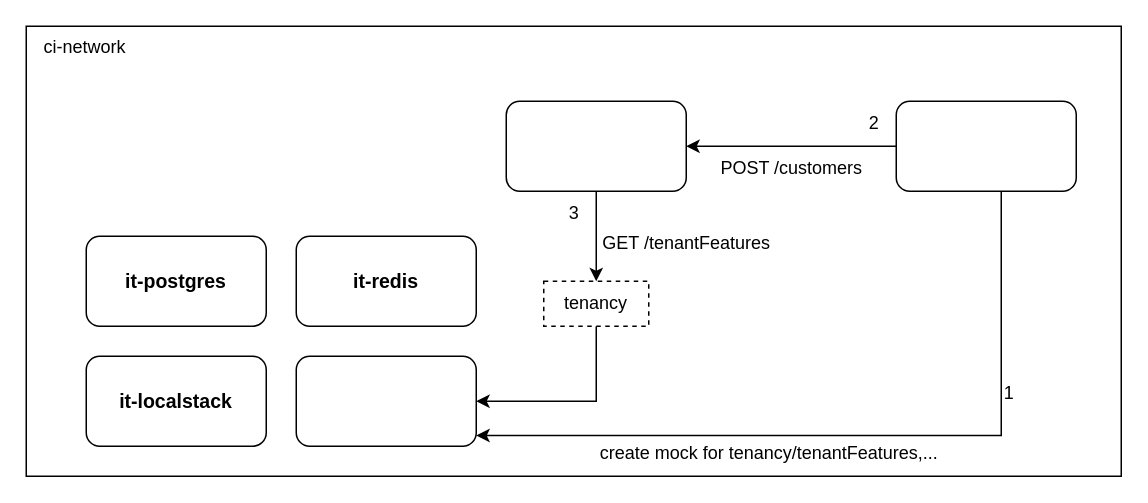
The diagram is 1148 pixels wide and 503 high, and some of its shapes have lost their labels. Here are the shapes that lost their labels. From the top down, the centre of each, then its label:
At (x=595, y=145): "it-customer".
At (x=985, y=145): "cucumber-run".
At (x=385, y=400): "it-mock-server".
